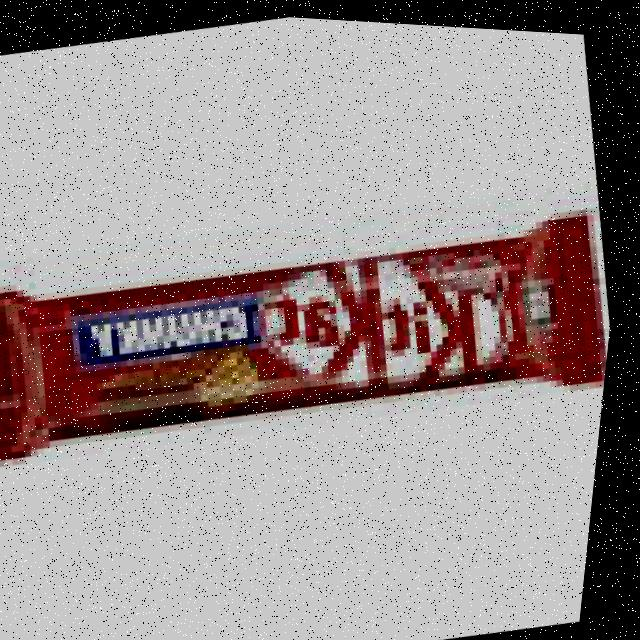kitkat: (0, 172, 626, 494)
